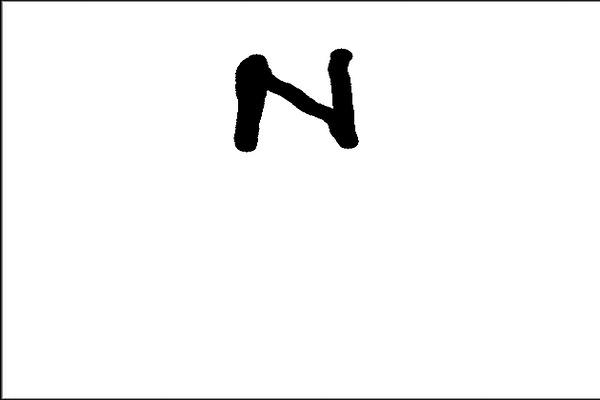N: (226, 44, 367, 157)
